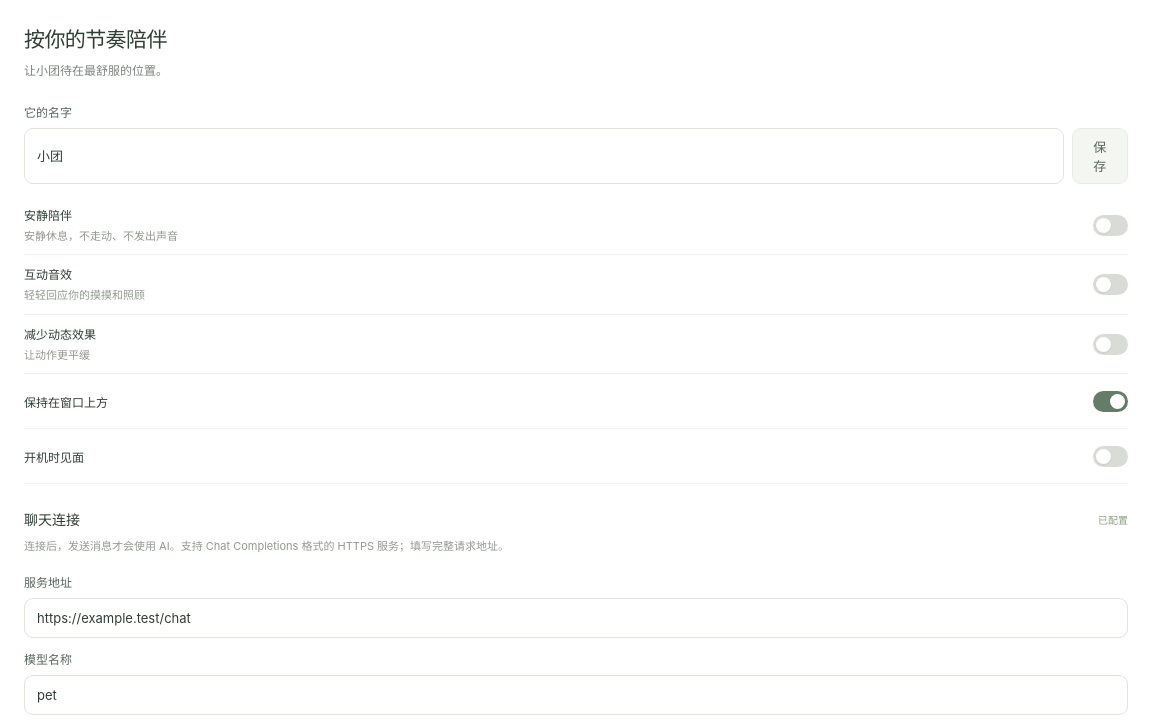
Test: requires unsaved connection changes to be saved before testing
Replace the text in the field labelled "模型名称" with "other-model" at (576,695), box [24,675,1128,715]
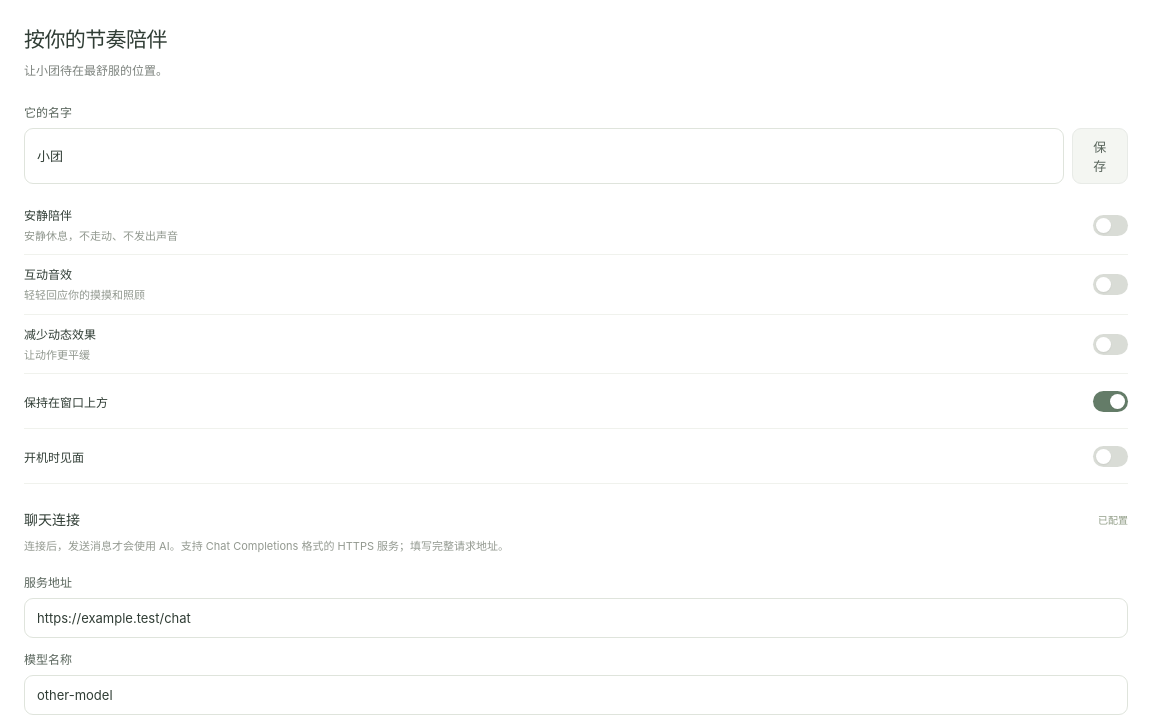
Replace the text in the field labelled "模型名称" with "pet" at (576,695), box [24,675,1128,715]
(page scrolled)
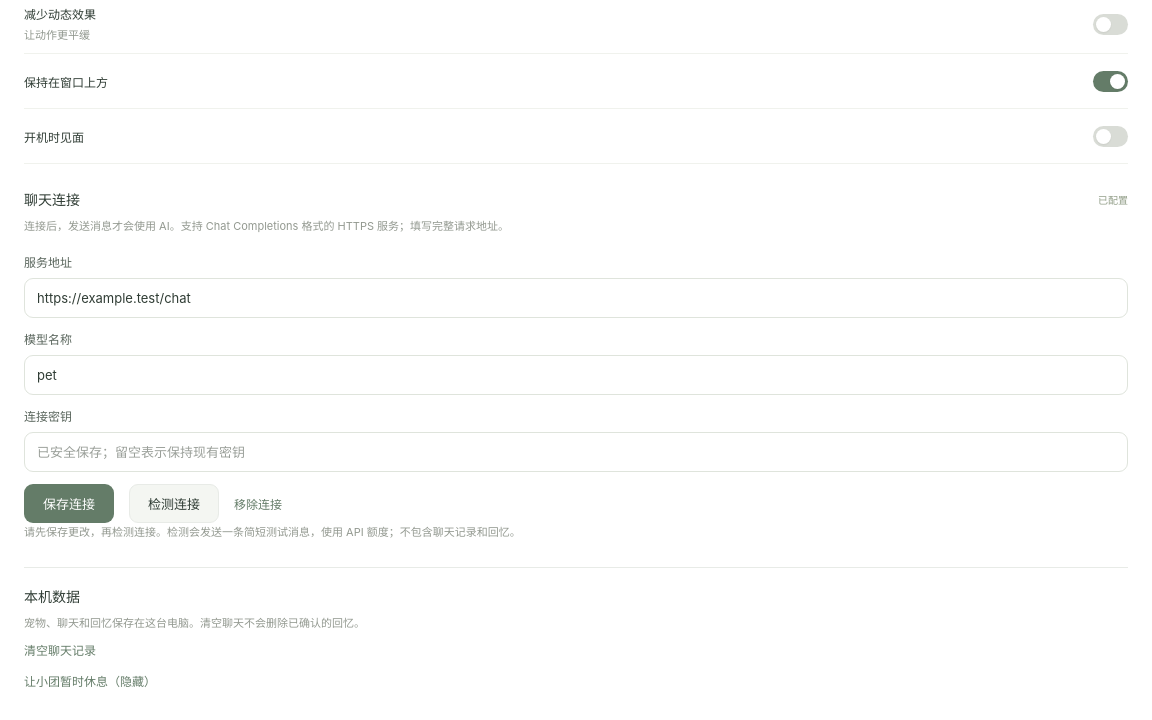
expect the button "检测连接" is enabled: met, box [129,484,219,523]
